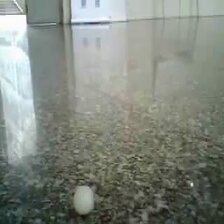w: (72, 184, 96, 216)
